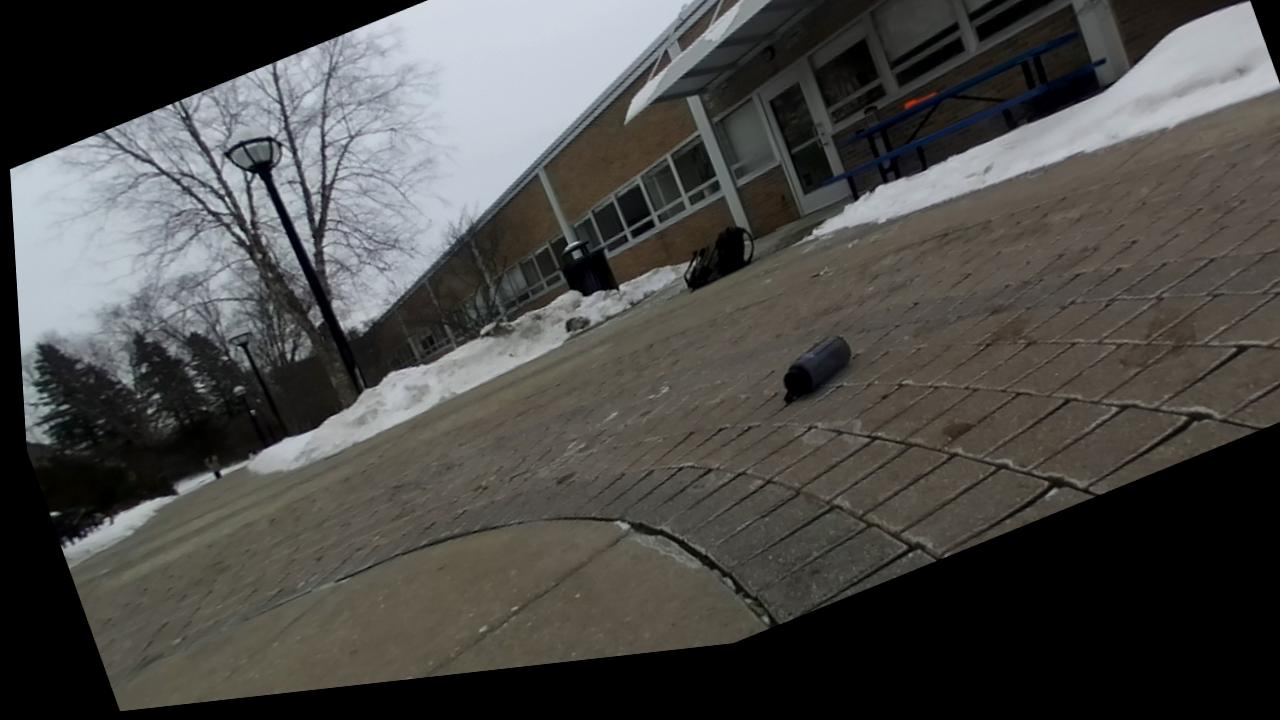bottle: (783, 336, 851, 403)
